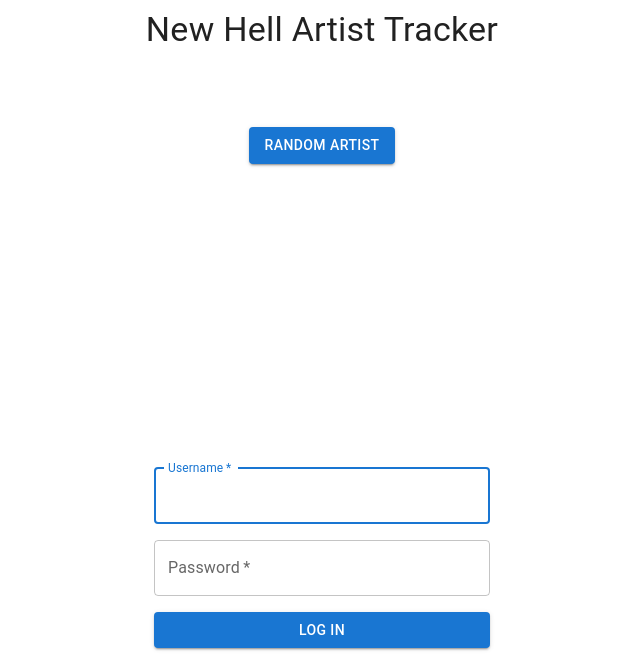
Scenario: App random artist flow › fetches and displays a random artist
The image size is (644, 668).
Step 1. Click the button "Random Artist" → (322, 146), box top-left (248, 127), bottom-right (395, 164)
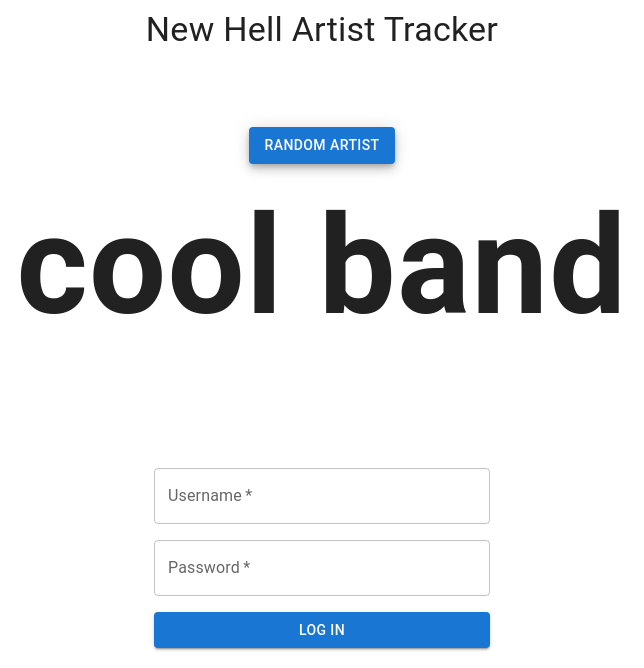
Result: the text "cool band" is shown at top-left (16, 186), bottom-right (628, 346)
